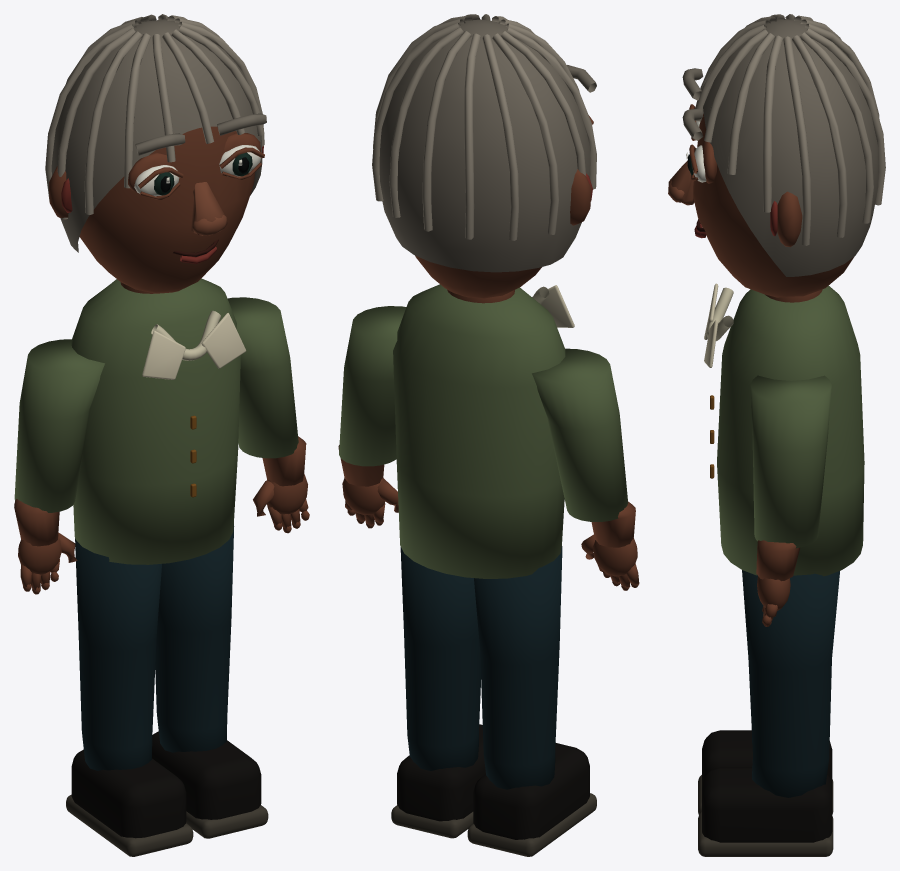
Rendered from patient-11.glb.
The picture shows the model from 3 angles, left to right: view 1: azimuth 30°, elevation 25°; view 2: azimuth 150°, elevation 25°; view 3: azimuth 270°, elevation 25°; orthographic projection.
Parts seen in each view (by area): view 1: Head, Body, LegL, LegR, ArmL, ArmR; view 2: Head, Body, LegL, LegR, ArmL, ArmR; view 3: Head, LegR, Body, ArmR, LegL.
Part boxes in pixels (x1,y1,x2,y2): Head: (45, 14, 266, 293); Body: (71, 278, 246, 564); LegL: (66, 538, 193, 856); LegR: (152, 524, 268, 838); ArmL: (14, 339, 104, 594); ArmR: (227, 297, 309, 533); Head: (372, 14, 596, 298); Body: (393, 284, 574, 578); LegL: (467, 546, 596, 856); LegR: (391, 547, 485, 838); ArmL: (532, 348, 639, 590); ArmR: (338, 306, 406, 528); Head: (668, 14, 885, 297); LegR: (698, 570, 839, 856); Body: (704, 283, 864, 576); ArmR: (750, 375, 831, 626); LegL: (698, 730, 833, 814).
Bounding box in the file's own units: 0.5439 × 1.43 × 0.3521.
